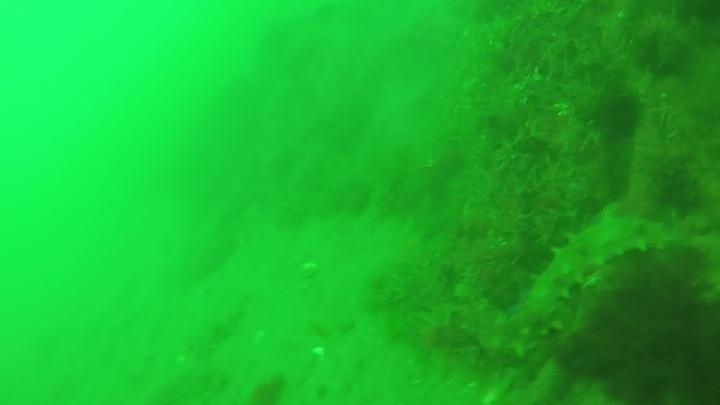echinus: (594, 90, 645, 143)
holothurian: (500, 212, 686, 355), (186, 302, 249, 360)
